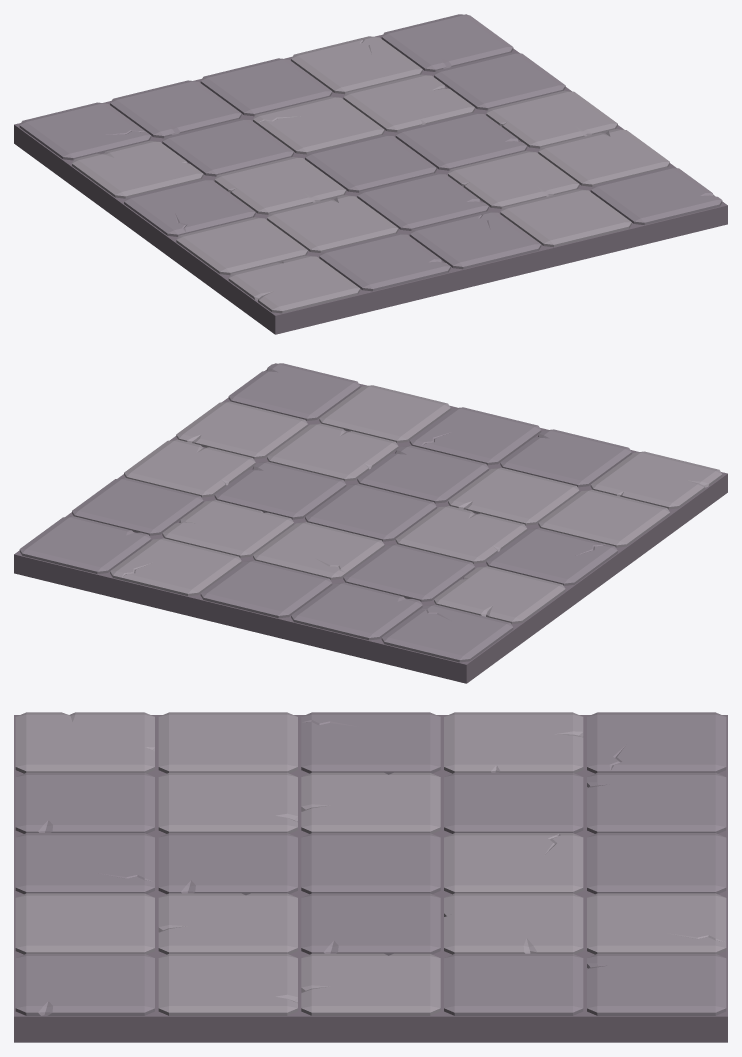
The model's file is floor stone 2.fbx.
3 renders of one model, top to bottom at view 1: azimuth 30°, elevation 25°; view 2: azimuth 150°, elevation 25°; view 3: azimuth 270°, elevation 25°, orthographic. The views are drawn at different scales.
Parts seen in each view (by area): view 1: pCube104; view 2: pCube104; view 3: pCube104.
Part boxes in pixels (box(x1,y1,x2,y2)): pCube104: box(14, 14, 727, 334); pCube104: box(14, 363, 727, 683); pCube104: box(14, 712, 727, 1042).
Size of the model in its own units: 5 by 0.2417 by 5.
